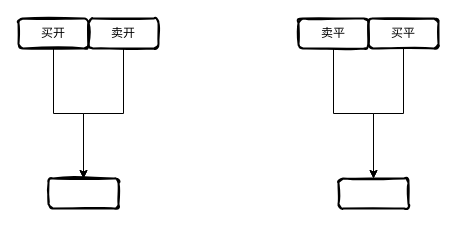
The diagram is 456 pixels wide and 226 high, and some of its shapes have lost their labels. Each missing label, with the box of its shape:
平仓: (337, 177, 409, 209)
建仓: (47, 177, 119, 209)
